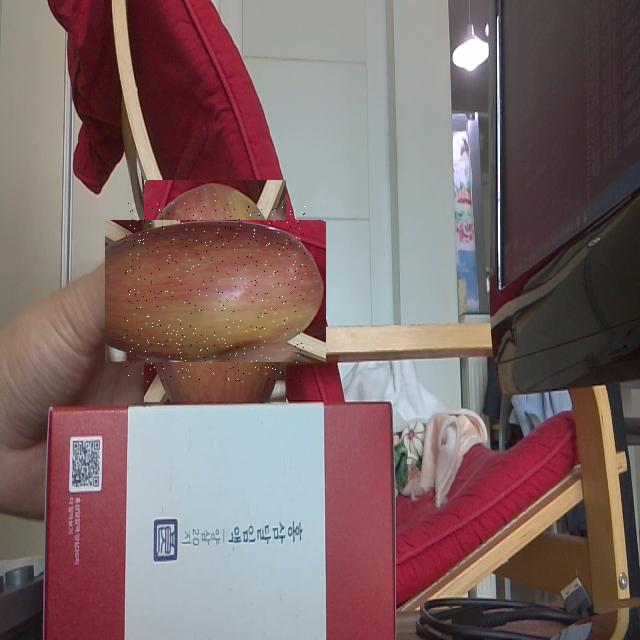apple: (124, 200, 306, 382)
